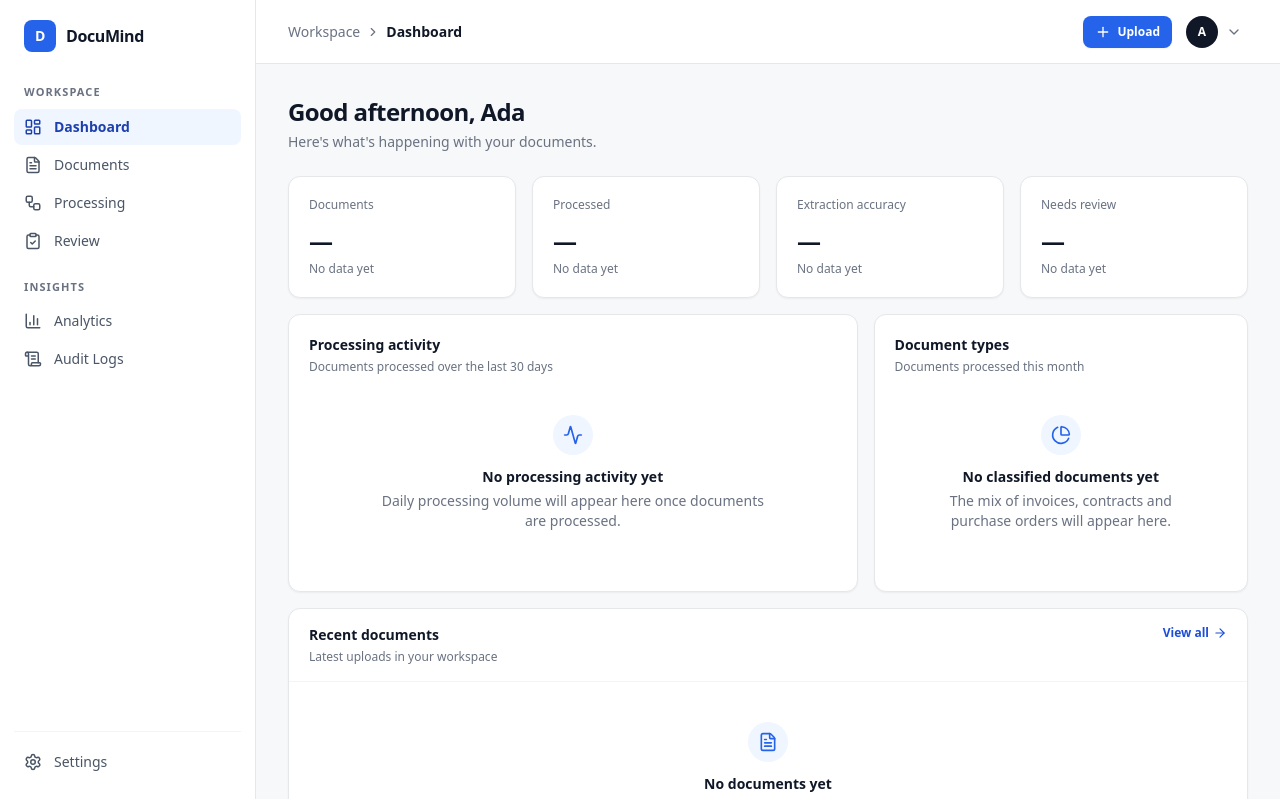
Scenario: AppShell › account menu › links to settings and closes
Expected: the heading "Good afternoon, Ada" is shown, [288, 95, 525, 128]
What coordinates should you click on to do the following:
click the button named "Account"
I would click on:
 (1216, 32)
Its box is [1184, 14, 1248, 50].
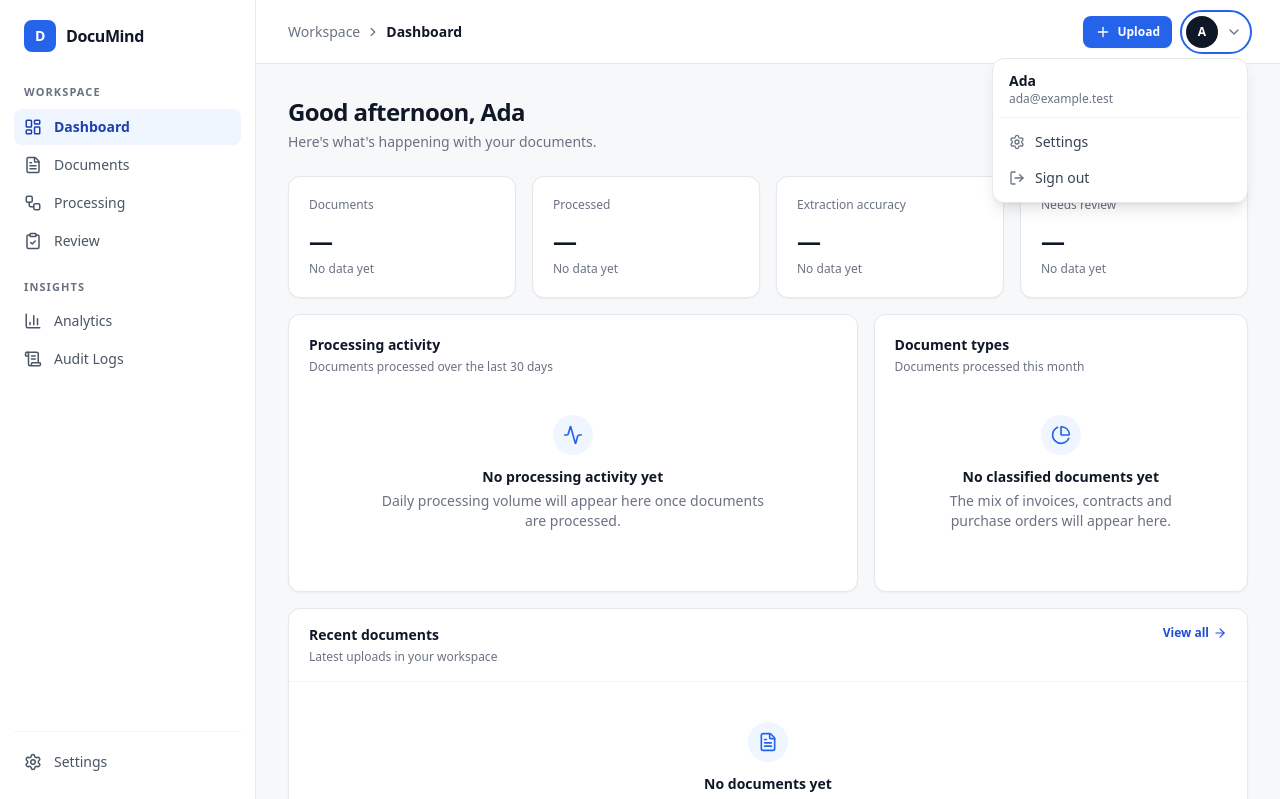
What coordinates should you click on to do the following:
click the link "Settings" below "ada@example.test"
I would click on:
 (1049, 141)
Its box is [1009, 132, 1088, 150].
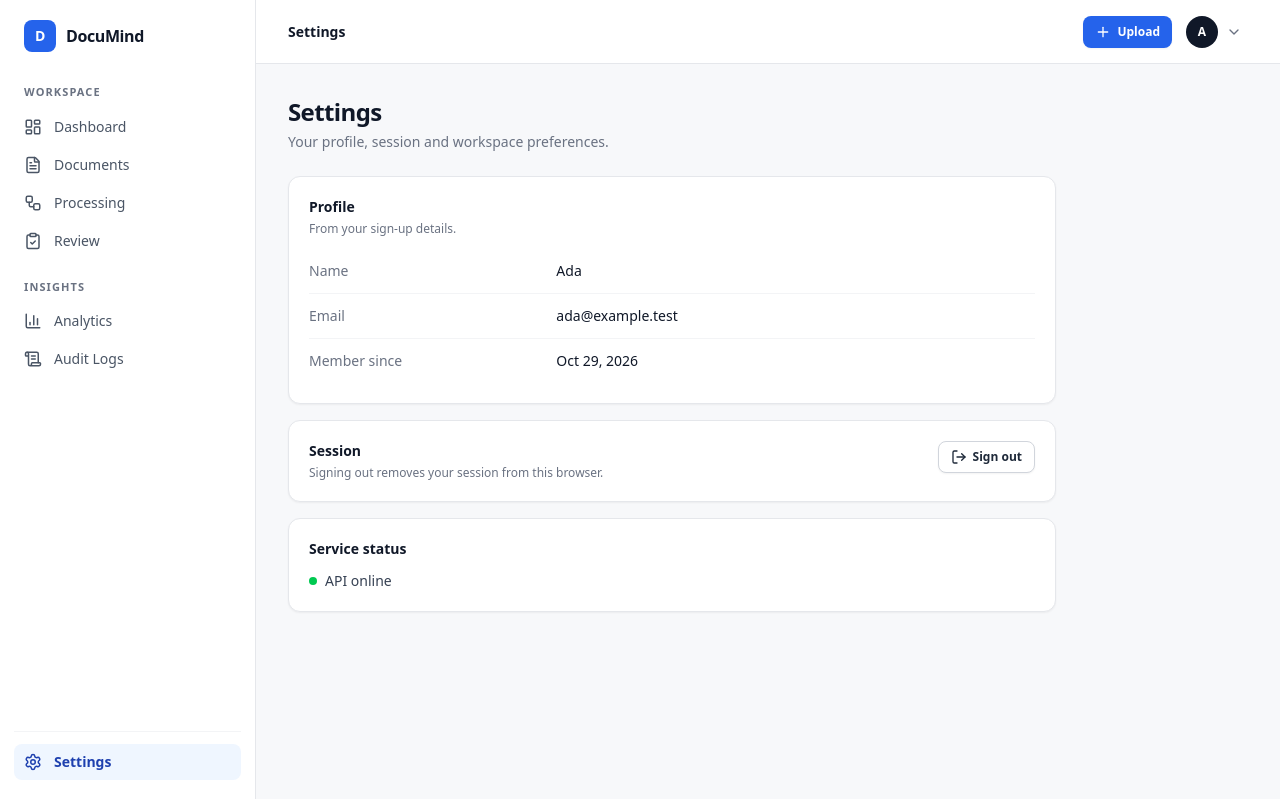
Now the heading "Settings" is shown, box [288, 95, 382, 128]
